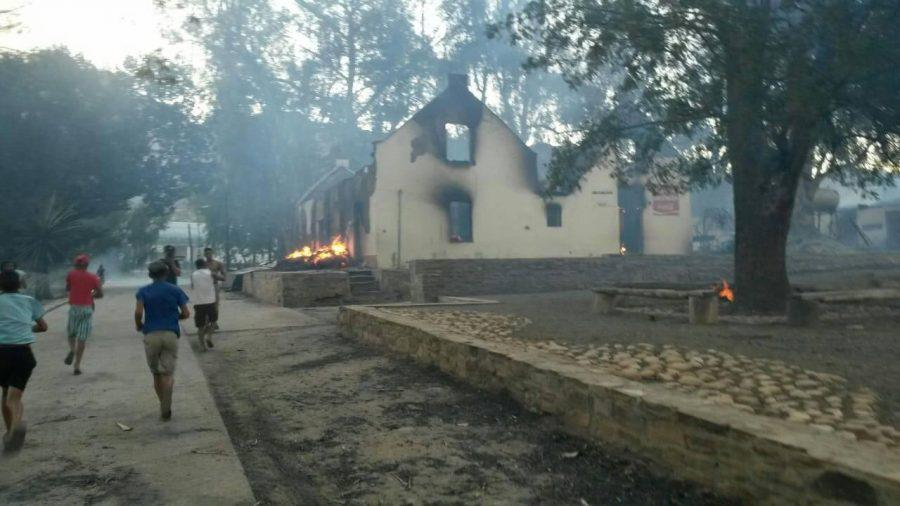Fire: (289, 240, 351, 262)
